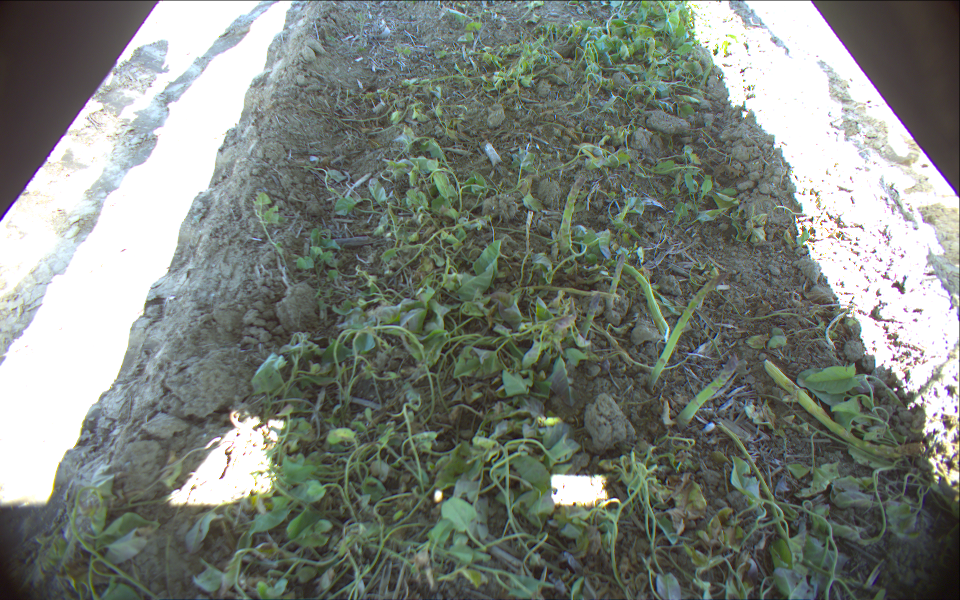aspa: (646, 269, 729, 392), (674, 353, 740, 437), (550, 171, 588, 246), (604, 248, 627, 310), (578, 291, 599, 339)
